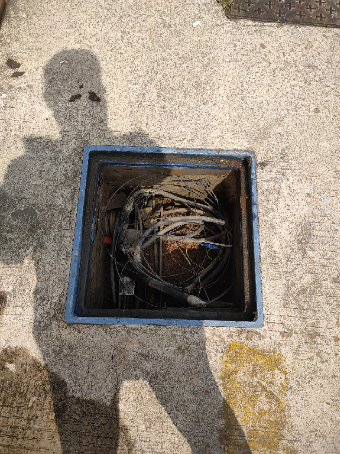lose: (64, 145, 263, 327)
